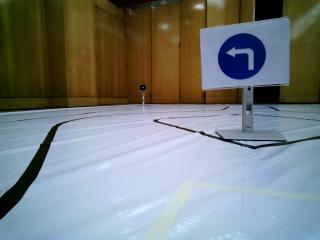left: (208, 31, 278, 79)
